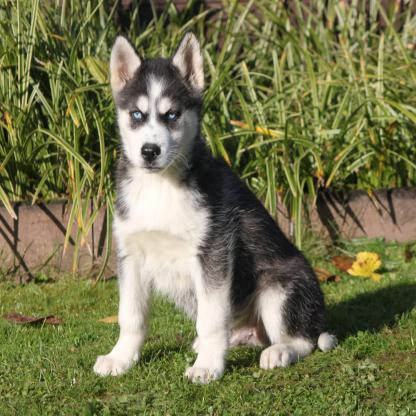dog: (88, 36, 336, 387)
